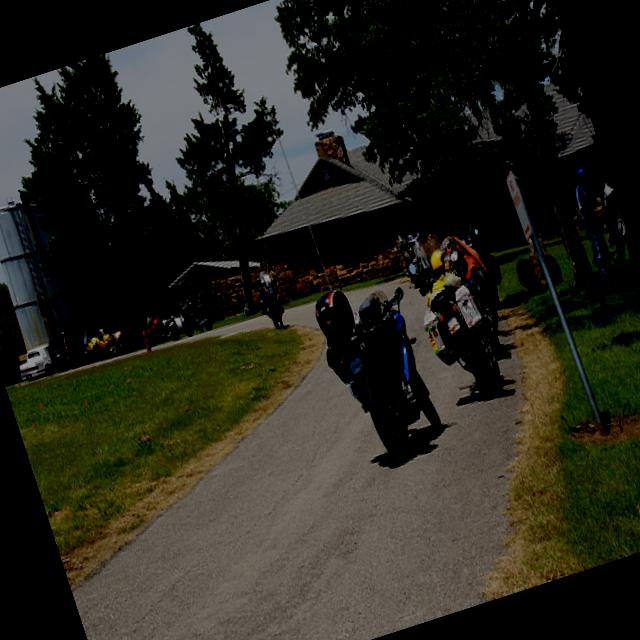Vehicle: (306, 268, 452, 476), (399, 228, 526, 412), (42, 318, 104, 374), (250, 268, 292, 336), (42, 324, 94, 374), (172, 286, 215, 340), (138, 299, 182, 350), (401, 229, 436, 285), (77, 322, 121, 364), (23, 344, 58, 381)
